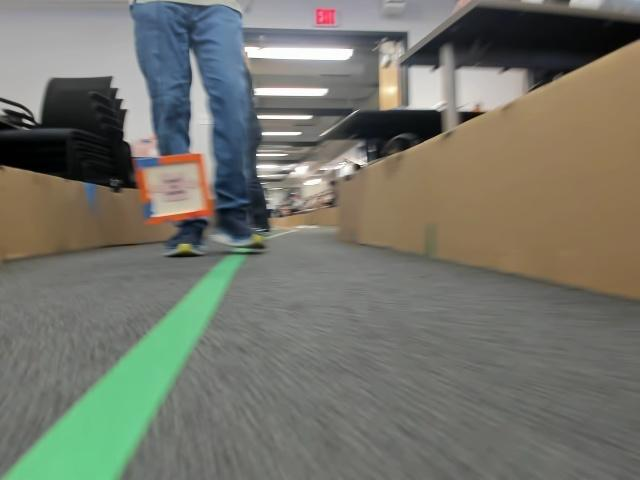Do Not Go Around: (148, 181, 196, 204)
